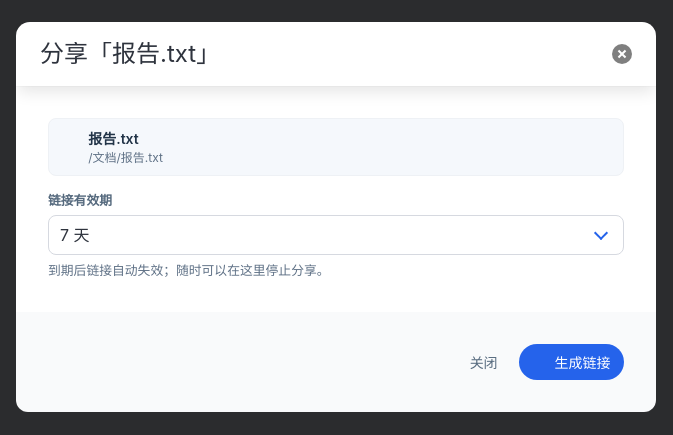
Scenario: ShareDialog.vue › offers 1 年 and 永久 expiry options and marks permanent links
选择永久时提示语随之变化
Select "永久" in the dropdown with id "share-ttl" at (336, 236), box [48,216,624,256]
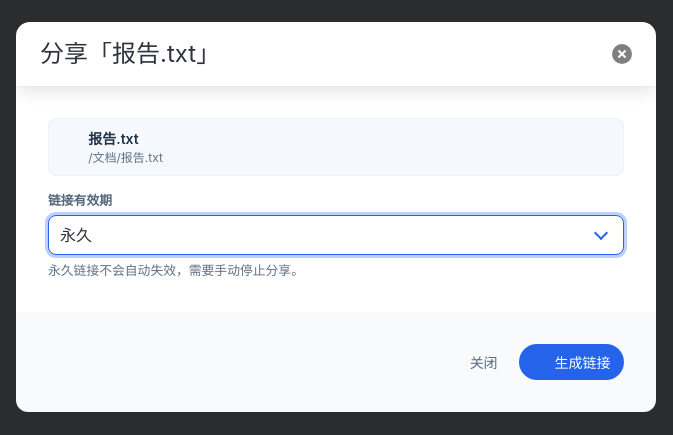
Check: the text with class "share-hint" shows "永久链接不会自动失效", box [48,263,304,278]
Click the button "生成链接" at (572, 362), box [519,344,624,380]
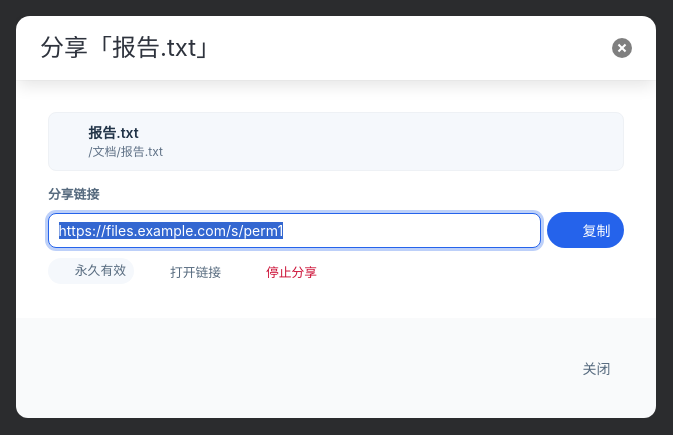
Check: the element with class "share-chip" reads "永久有效", box [75,264,126,278]
